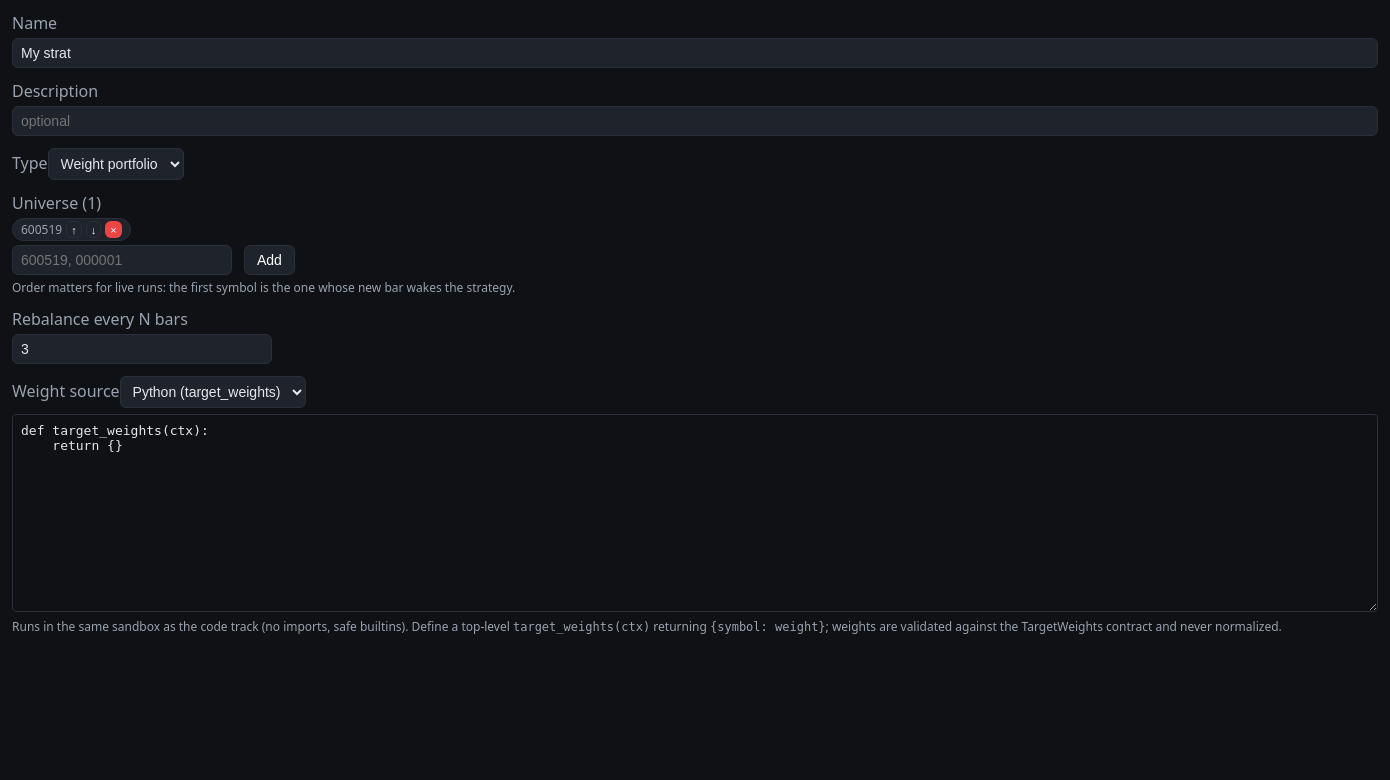
Test case: StrategyEditor › adds symbols from the draft input, uppercasing and de-duplicating
Type "000001, 600519" into the field named "add symbols" at {"x": 122, "y": 260}, box [12, 245, 232, 275]
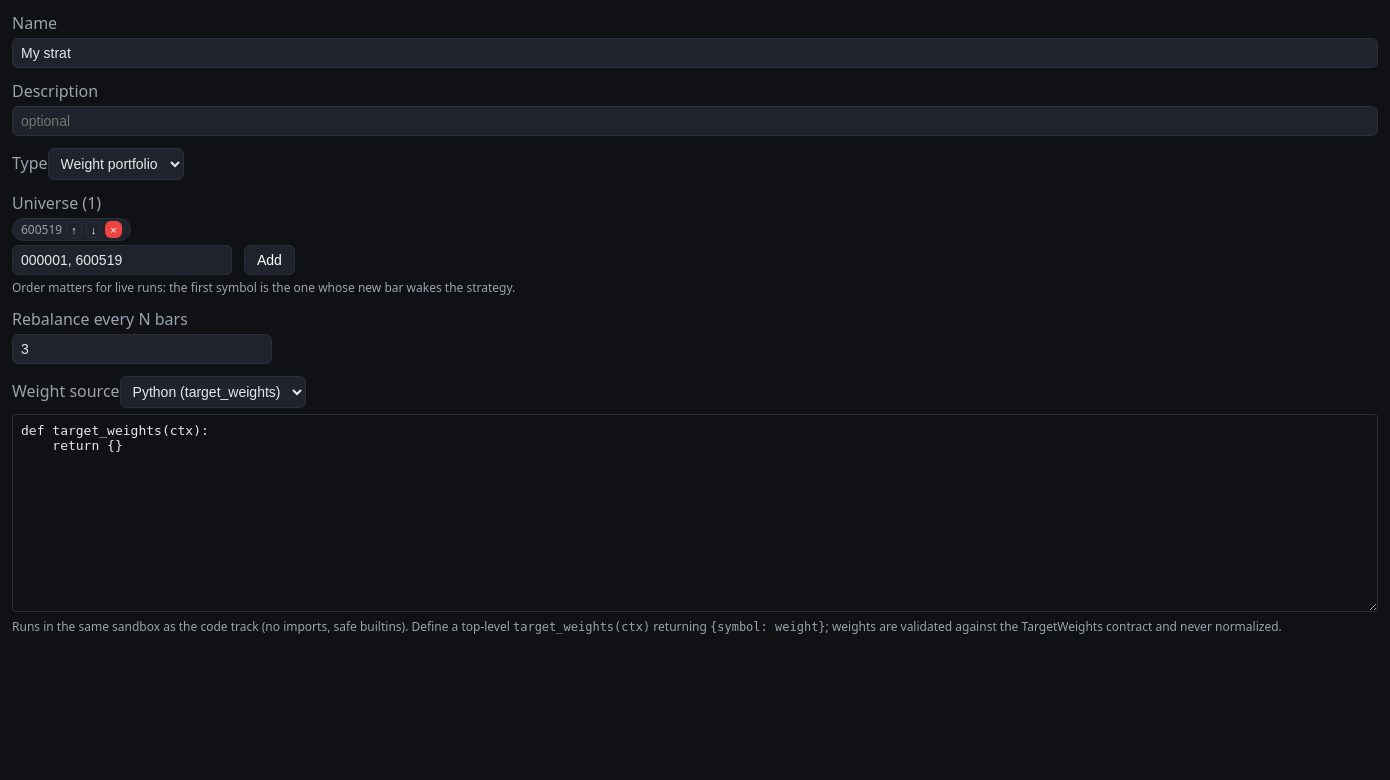
Click the button "Add" at {"x": 269, "y": 260}, box [244, 245, 295, 275]
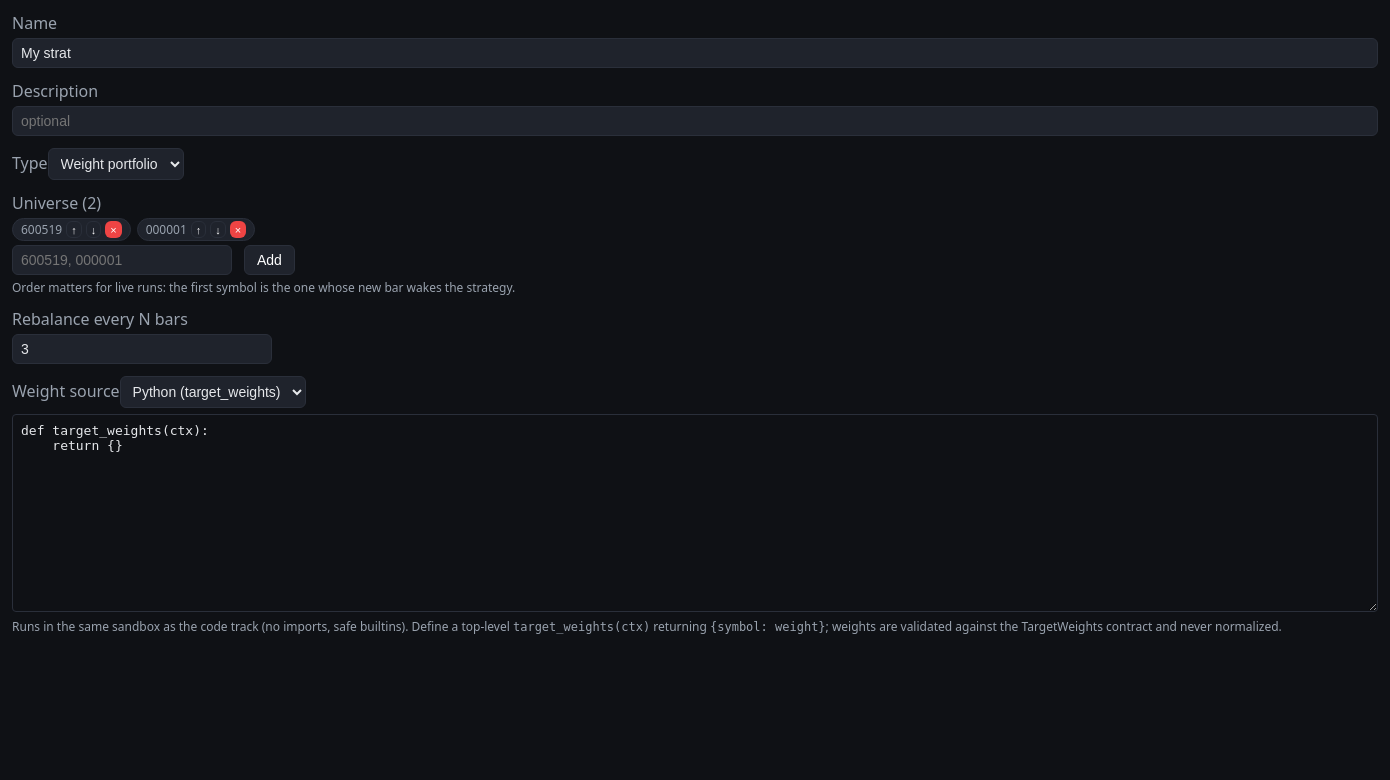
Check: the button named "remove 000001" is shown, box [230, 221, 246, 238]
Check: the number of buttons named "remove 600519" is 1, box [105, 221, 122, 238]
Check: the field named "add symbols" is empty, box [12, 245, 232, 275]
